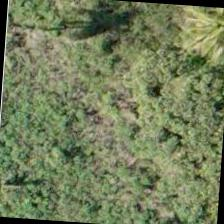Kelapa_Sawit: (178, 5, 223, 63)
